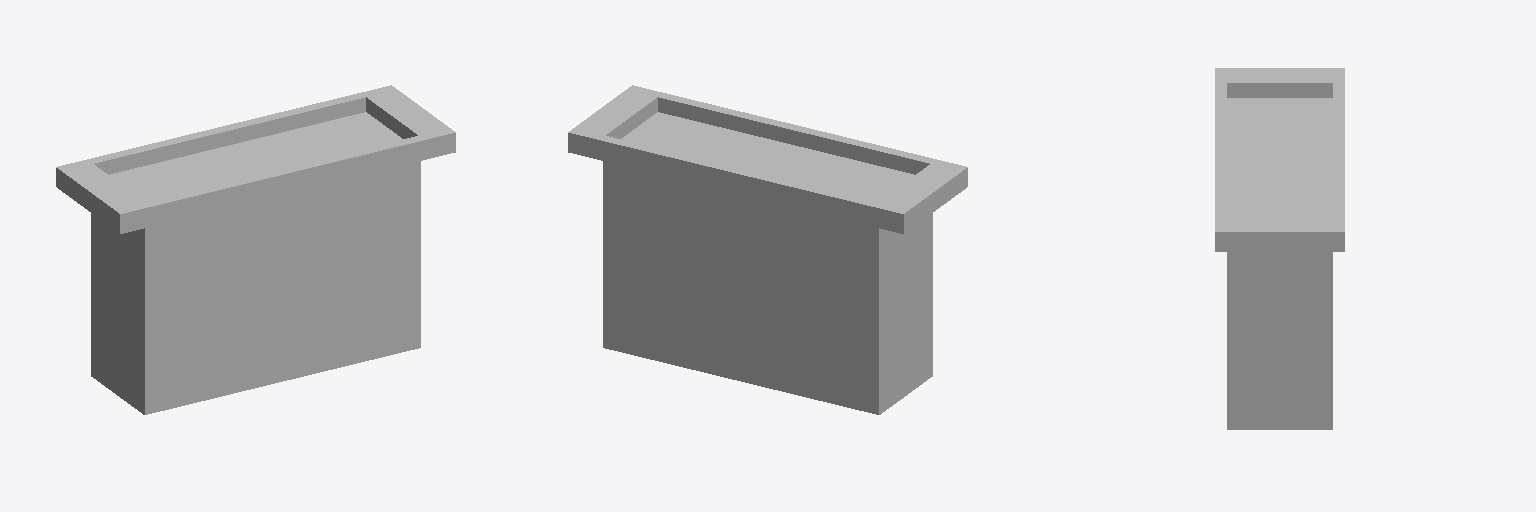
File: switchBase.obj
The picture shows the model from 3 angles: view 1: azimuth 30°, elevation 25°; view 2: azimuth 150°, elevation 25°; view 3: azimuth 270°, elevation 25°; orthographic projection.
Visible parts, largest first — view 1: Cube; view 2: Cube; view 3: Cube.
Boxes of the visible parts, x1=… form: Cube: x1=56, y1=85, x2=455, y2=414; Cube: x1=568, y1=85, x2=967, y2=414; Cube: x1=1215, y1=68, x2=1344, y2=429.
Size of the model in its own units: 0.2189 by 0.1324 by 0.073.